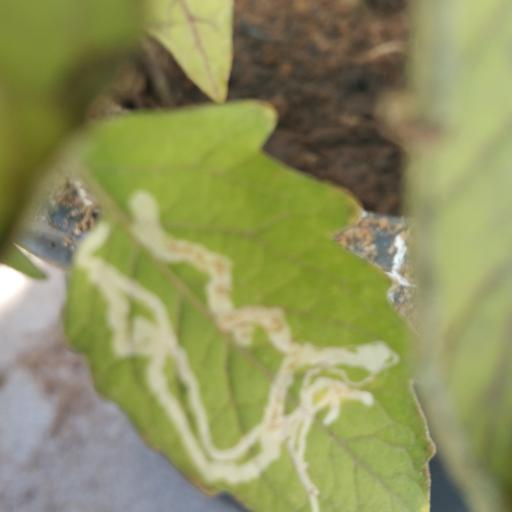Leaf_Miner: (66, 100, 439, 512)
